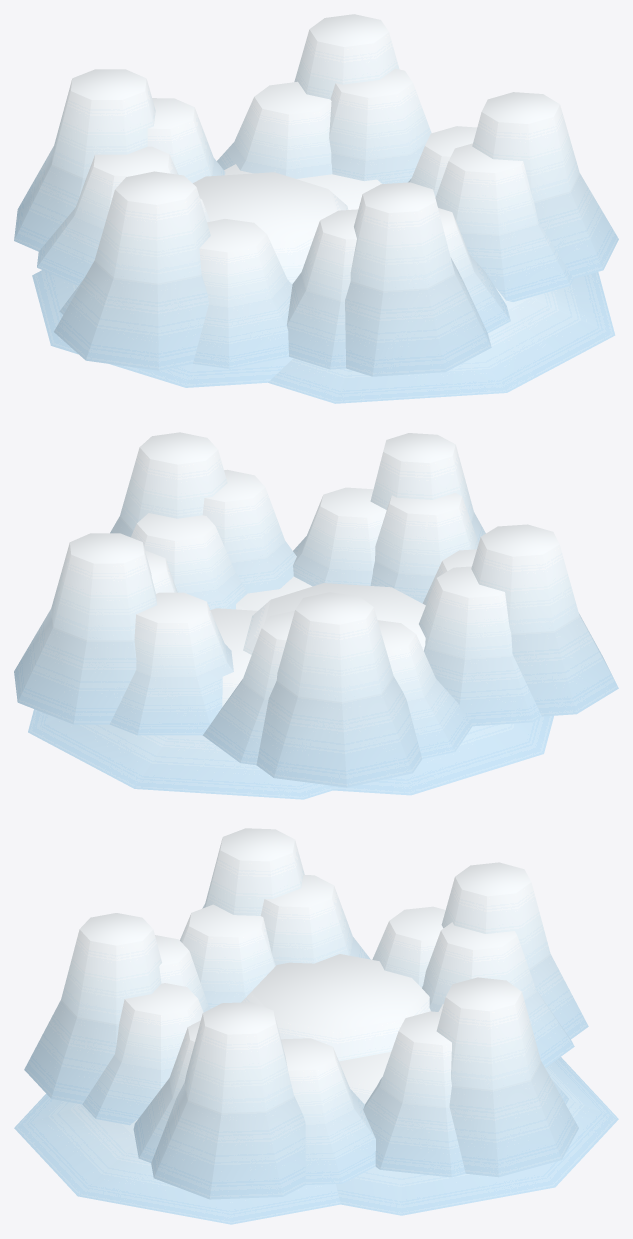
File: cloud-bounce.glb
The picture shows the model from 3 angles, top to bottom: view 1: azimuth 30°, elevation 25°; view 2: azimuth 150°, elevation 25°; view 3: azimuth 270°, elevation 25°; orthographic projection.
Visible parts, largest first — view 1: cloud-bounce; view 2: cloud-bounce; view 3: cloud-bounce.
Part boxes in pixels (left/top/right/bottom): cloud-bounce: left=14, top=14, right=618, bottom=403; cloud-bounce: left=14, top=432, right=618, bottom=799; cloud-bounce: left=14, top=828, right=618, bottom=1224.
Size of the model in its own units: 16 by 5 by 16.
Materials: 1 (1 with a texture image).
